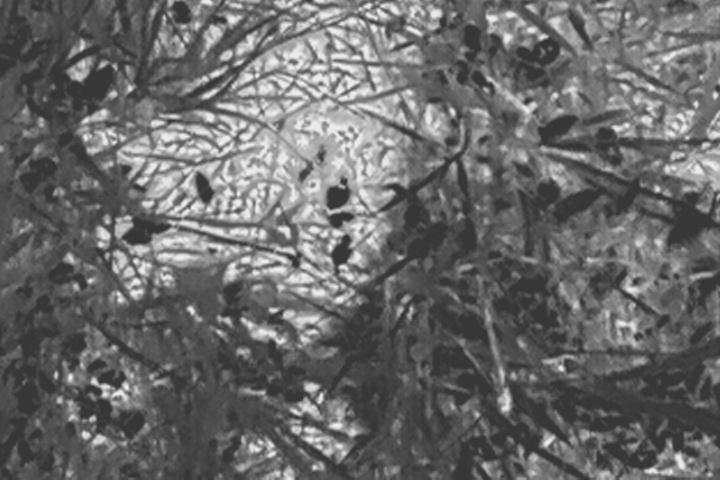landmine: (119, 65, 425, 295)
